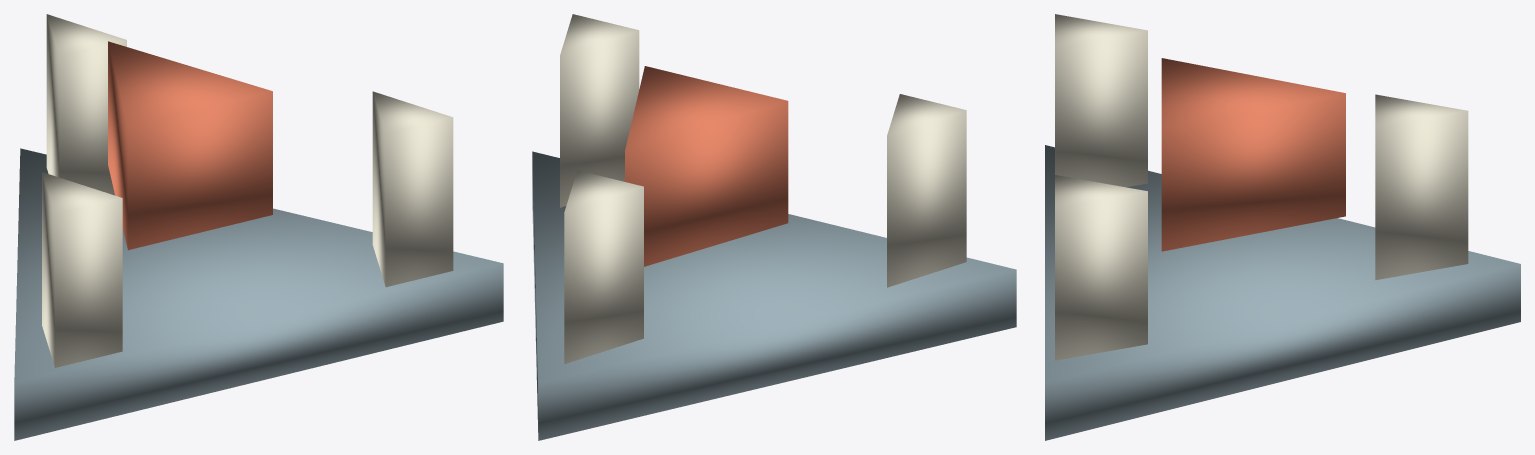
Rendered from site_attack.glb.
3 views of the same model, side by side, from view 1: azimuth 30°, elevation 25°; view 2: azimuth 150°, elevation 25°; view 3: azimuth 270°, elevation 25° (orthographic).
Visible parts, largest first — view 1: Triangular plinth, Attack crystal, Watch fang.001, Watch fang, Watch fang.002; view 2: Triangular plinth, Attack crystal, Watch fang.002, Watch fang, Watch fang.001; view 3: Triangular plinth, Attack crystal, Watch fang.002, Watch fang.001, Watch fang.
Part boxes in pixels (box(x1,y1,x2,y2)): Triangular plinth: box(14, 148, 503, 440); Attack crystal: box(108, 41, 272, 250); Watch fang.001: box(372, 91, 453, 287); Watch fang: box(42, 172, 122, 367); Watch fang.002: box(46, 14, 126, 195); Triangular plinth: box(532, 151, 1016, 440); Attack crystal: box(625, 66, 788, 266); Watch fang.002: box(564, 170, 643, 363); Watch fang: box(887, 94, 966, 287); Watch fang.001: box(560, 14, 639, 207); Triangular plinth: box(1045, 145, 1520, 440); Attack crystal: box(1161, 58, 1345, 251); Watch fang.002: box(1375, 94, 1468, 280); Watch fang.001: box(1055, 175, 1147, 360); Watch fang: box(1055, 14, 1147, 187).
Size of the model in its own units: 2.9 by 1.3 by 2.45.
